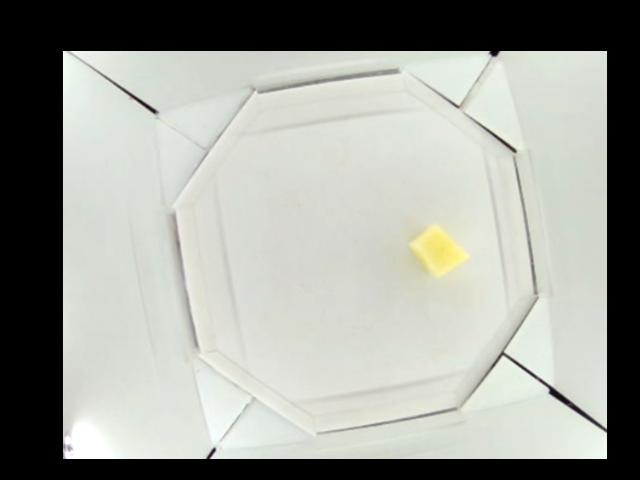Potato: (409, 223, 468, 276)
